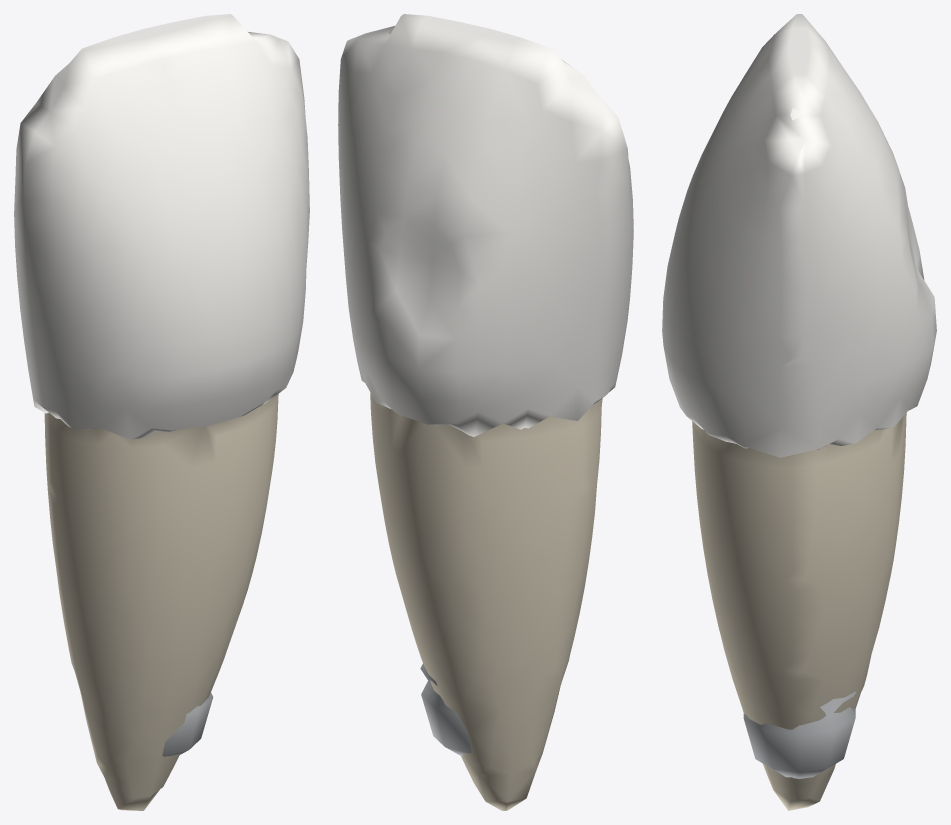
3 views of the same model, side by side, from view 1: azimuth 30°, elevation 25°; view 2: azimuth 150°, elevation 25°; view 3: azimuth 270°, elevation 25° (orthographic).
Visible parts, largest first — view 1: crown, root, implant; view 2: crown, root, implant; view 3: crown, root, implant.
Boxes of the visible parts, x1,y1,x2,y2 form: crown: (14,14,309,439); root: (44,394,278,810); implant: (162,692,213,756); crown: (338,14,633,436); root: (370,393,602,810); implant: (420,664,471,755); crown: (662,14,936,457); root: (692,413,906,810); implant: (743,691,856,778).
Bounding box in the file's own units: 9.07 × 23.85 × 7.68.
